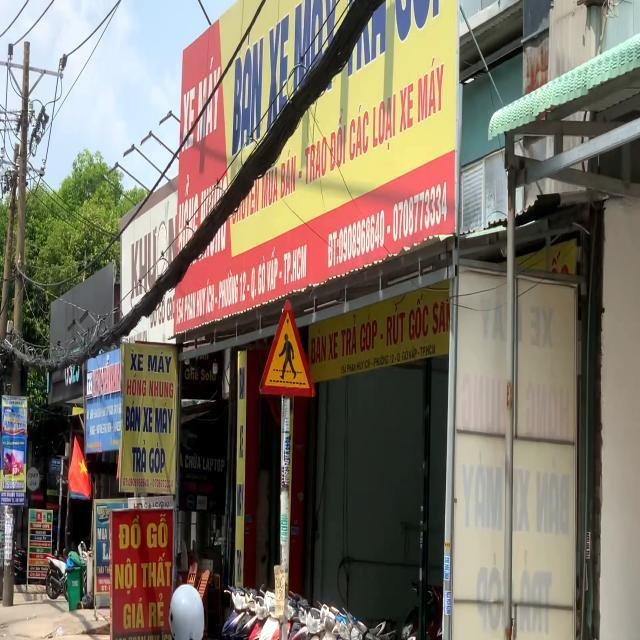W-224: (258, 296, 316, 400)
